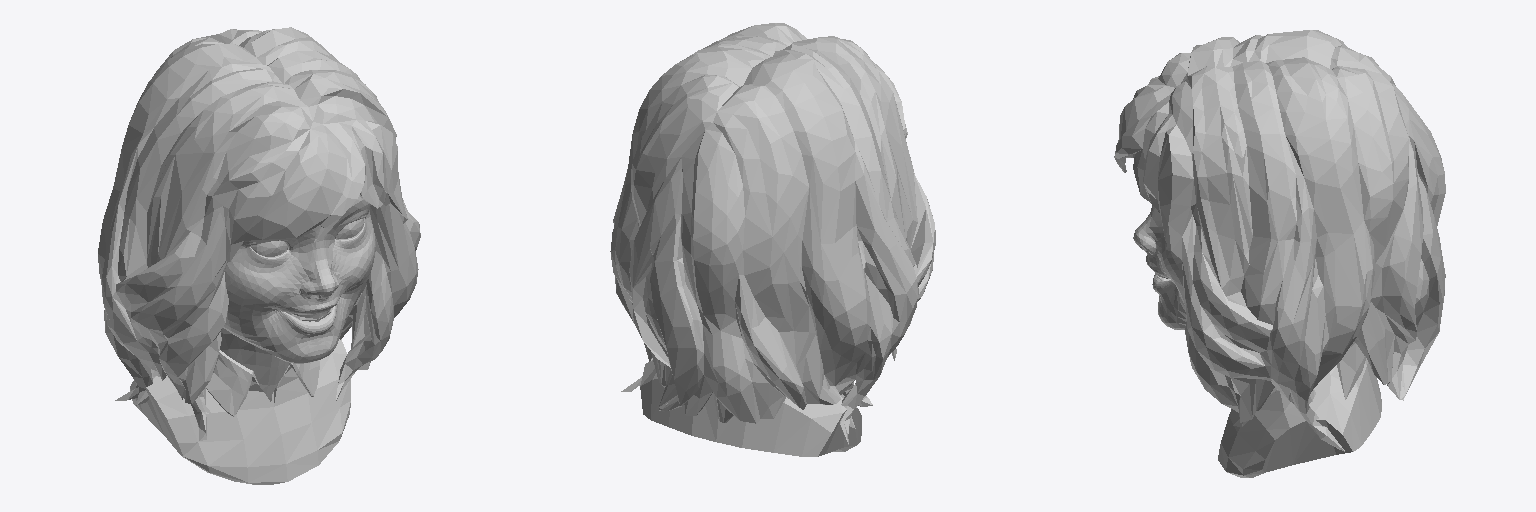
3 renders of one model, left to right at view 1: azimuth 30°, elevation 25°; view 2: azimuth 150°, elevation 25°; view 3: azimuth 270°, elevation 25°, orthographic.
Visible parts, largest first — view 1: Wolf3D_Avatar; view 2: Wolf3D_Avatar; view 3: Wolf3D_Avatar.
Part boxes in pixels (x1,y1,x2,y2): Wolf3D_Avatar: (98, 27, 420, 484); Wolf3D_Avatar: (610, 23, 935, 456); Wolf3D_Avatar: (1114, 30, 1445, 477).
Size of the model in its own units: 0.2775 by 0.3677 by 0.2652.